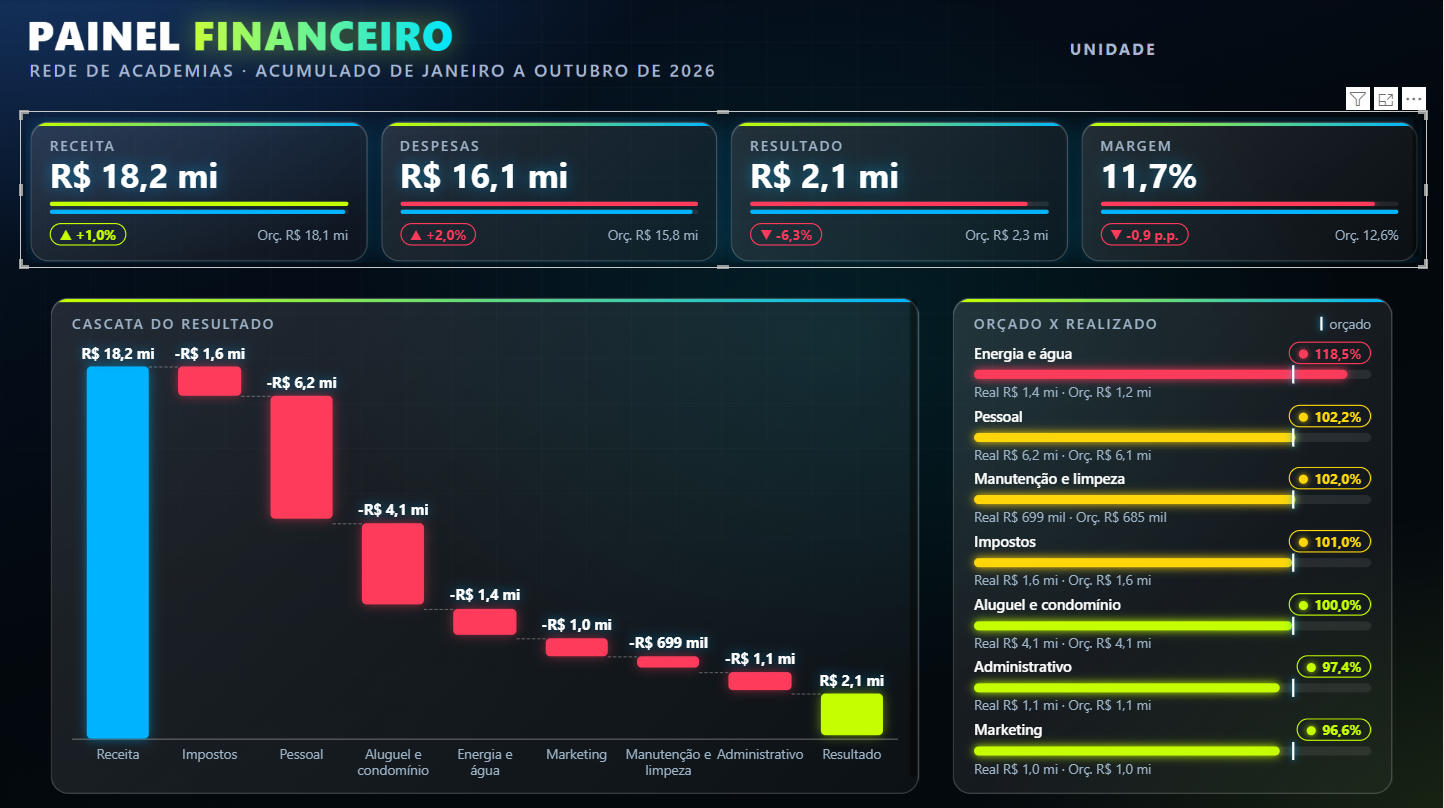

Layout of this report page (visuals, bound fields, positions):
{"tool":"powerbi","page":{"name":"Financeiro","canvas":[1280,720],"ordinal":0},"visuals":[{"type":"htmlContent443BE3AD55E043BF878BED274D3A6855","fields":{"content":["_Medidas.HTML Cartões"]},"box":[17.7,99.3,1247.6,139.2],"z":0},{"type":"htmlContent443BE3AD55E043BF878BED274D3A6855","fields":{"content":["_Medidas.HTML Cascata"]},"box":[17.7,259.8,802.5,438.9],"z":1000},{"type":"htmlContent443BE3AD55E043BF878BED274D3A6855","fields":{"content":["_Medidas.HTML Orçado x Realizado"]},"box":[820.2,259.8,445.1,450.4],"z":2000},{"type":"slicer","fields":{"Values":["dUnidades.Unidade"]},"box":[1025.9,23.1,248.3,51.4],"z":3000},{"type":"actionButton","title":"Proxima Pagina","box":[677.8,8.9,230,40],"z":4000}]}

Visuals, with their boxes in screenshot pixels (x1, y1, x2, y2), scaled from the page's 1280x720 canvas onto the 1444x808 screenshot:
htmlContent443BE3AD55E043BF878BED274D3A6855 - _Medidas.HTML Cartões: Rect(20, 111, 1427, 268)
htmlContent443BE3AD55E043BF878BED274D3A6855 - _Medidas.HTML Cascata: Rect(20, 292, 925, 784)
htmlContent443BE3AD55E043BF878BED274D3A6855 - _Medidas.HTML Orçado x Realizado: Rect(925, 292, 1427, 797)
slicer - dUnidades.Unidade: Rect(1157, 26, 1437, 84)
"Proxima Pagina" actionButton: Rect(765, 10, 1024, 55)
